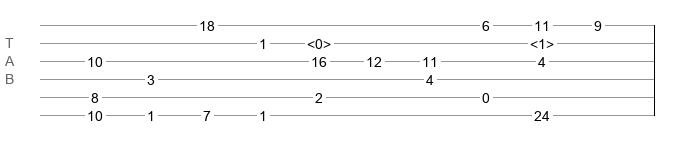0: (482, 90, 490, 100)
1: (147, 108, 155, 118), (259, 36, 267, 46), (259, 108, 267, 118)
10: (87, 54, 103, 64), (87, 108, 103, 118)
11: (422, 54, 438, 64), (534, 18, 550, 28)
12: (366, 54, 382, 64)
16: (311, 54, 327, 64)
18: (199, 18, 215, 28)
2: (315, 90, 323, 100)
24: (534, 108, 550, 118)
3: (147, 72, 155, 82)
4: (426, 72, 434, 82), (538, 54, 546, 64)
6: (482, 18, 490, 28)
7: (203, 108, 211, 118)
8: (91, 90, 99, 100)
9: (594, 18, 602, 28)
harmonic: (307, 36, 331, 46), (530, 36, 554, 46)
